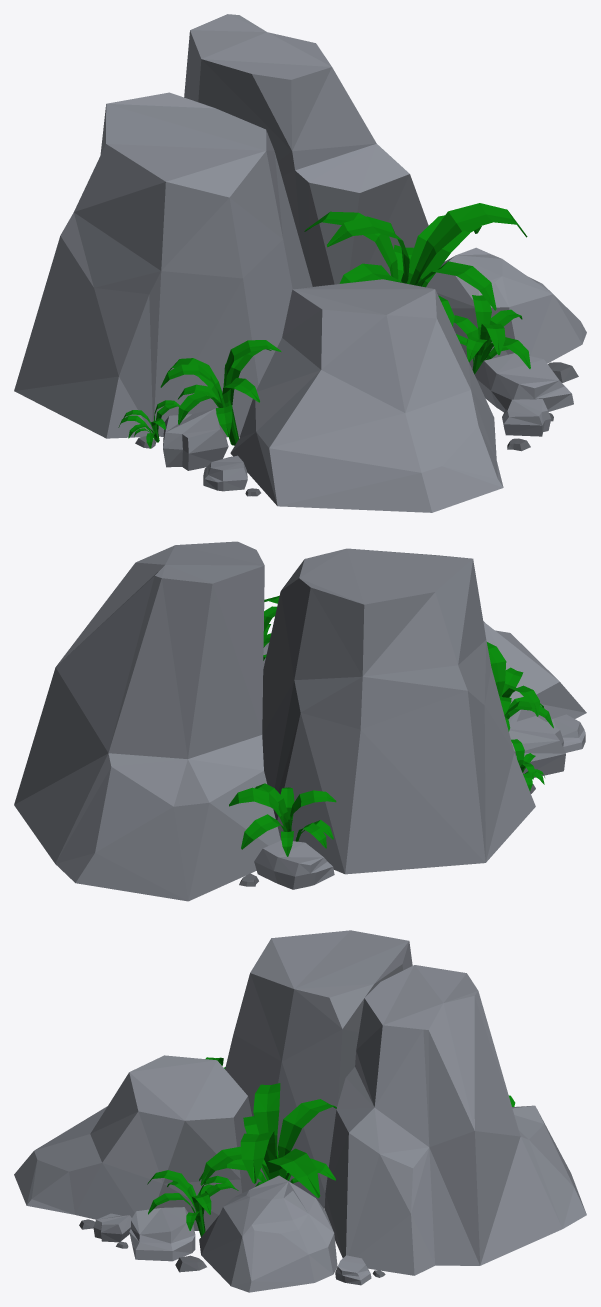
Rendered from SM_Rock_Cluster_Plant.fbx.
3 views of the same model, one above another, from view 1: azimuth 30°, elevation 25°; view 2: azimuth 150°, elevation 25°; view 3: azimuth 270°, elevation 25° (orthographic). The views are drawn at different scales.
Visible parts, largest first — view 1: SM_Rock_Cluster_Plant; view 2: SM_Rock_Cluster_Plant; view 3: SM_Rock_Cluster_Plant.
Boxes of the visible parts, box(x1,y1,x2,y2) form: SM_Rock_Cluster_Plant: box(14, 14, 586, 512); SM_Rock_Cluster_Plant: box(14, 541, 586, 901); SM_Rock_Cluster_Plant: box(14, 930, 586, 1292).
Bounding box in the file's own units: 170 × 89.17 × 214.
